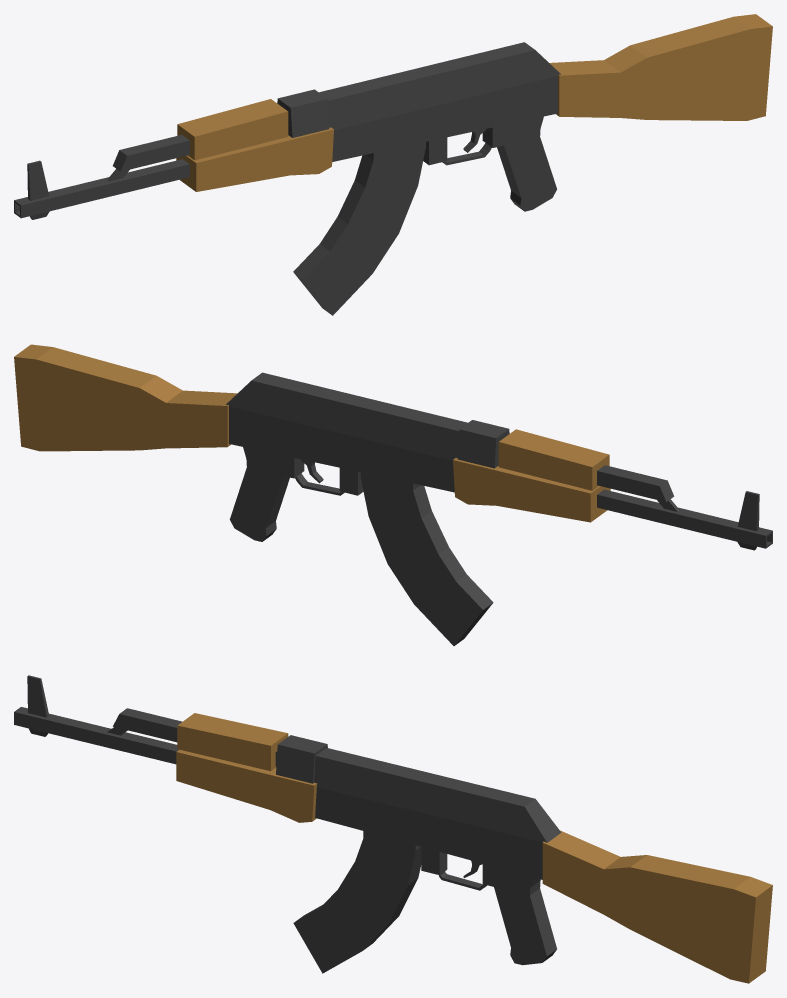
3 renders of one model, top to bottom at view 1: azimuth 30°, elevation 25°; view 2: azimuth 150°, elevation 25°; view 3: azimuth 330°, elevation 25°, orthographic.
Visible parts, largest first — view 1: AK47; view 2: AK47; view 3: AK47.
Part boxes in pixels (x1,y1,x2,y2): AK47: [14, 14, 772, 315]; AK47: [14, 344, 772, 645]; AK47: [14, 675, 772, 983].
Size of the model in its own units: 0.9991 by 0.2826 by 0.0458.
